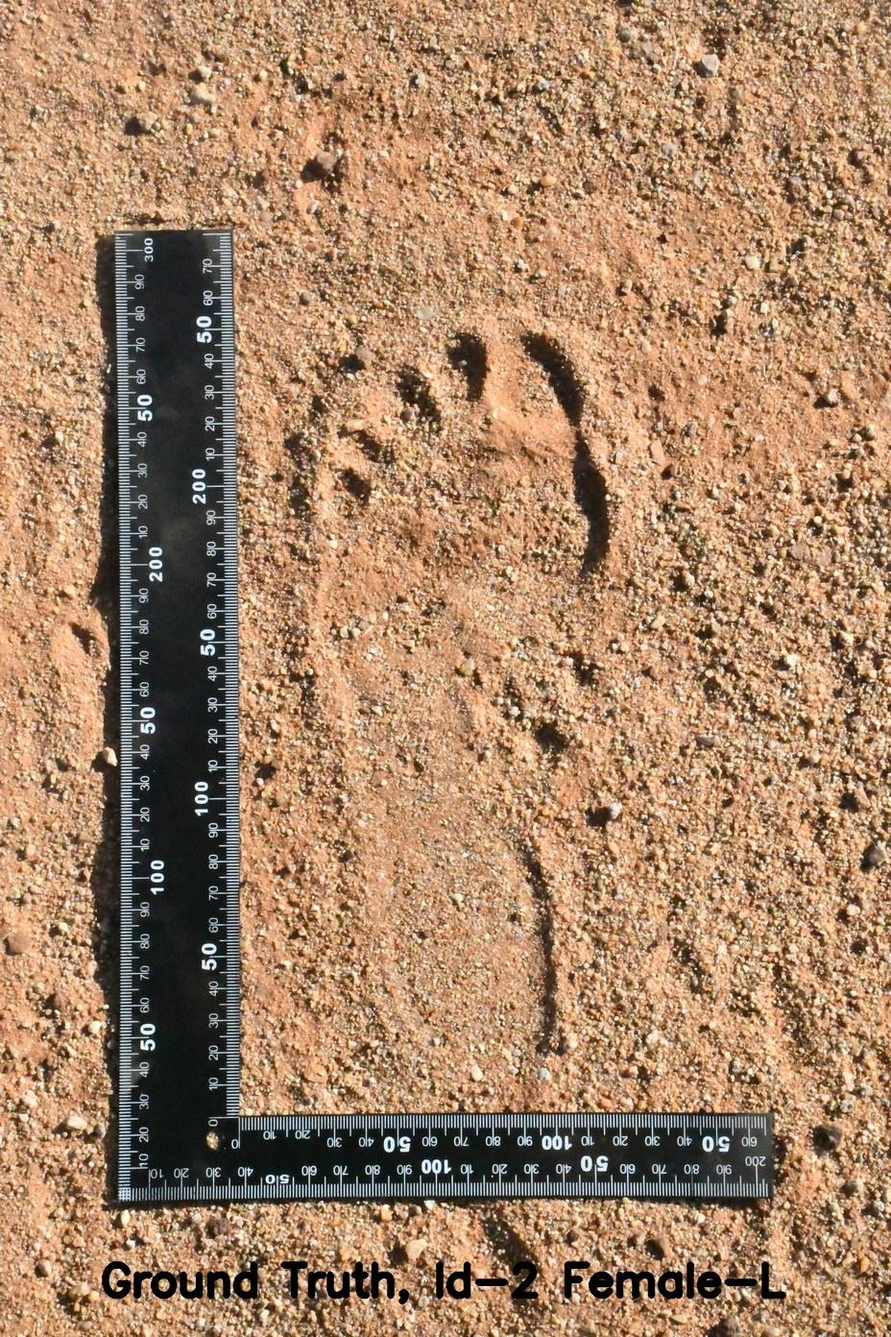human_foot_print: (266, 228, 717, 1085)
